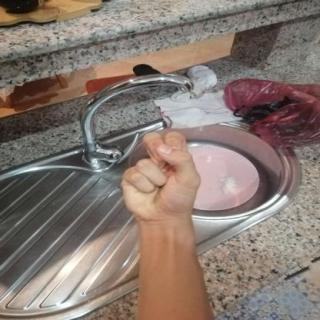QAAF: (109, 119, 214, 238)
